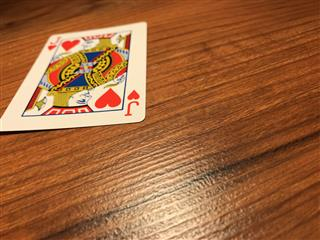JackOfHearts: (1, 20, 147, 133)
